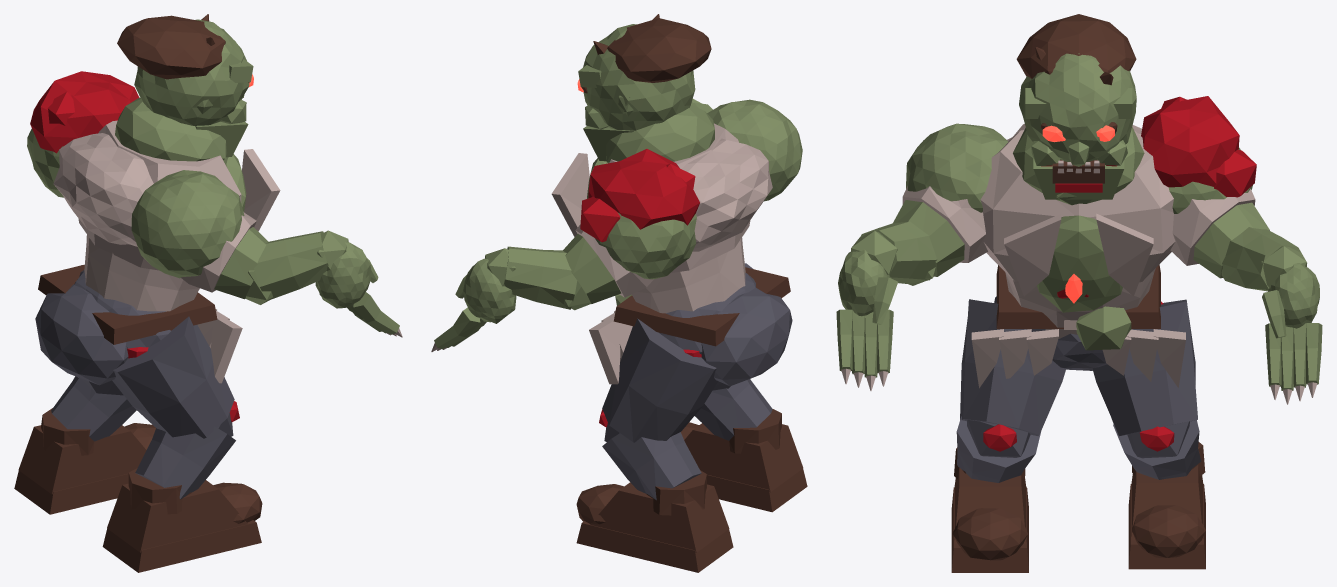
The model's file is inf.alpha.glb.
3 views of the same model, side by side, from view 1: azimuth 30°, elevation 25°; view 2: azimuth 150°, elevation 25°; view 3: azimuth 270°, elevation 25° (orthographic). The views are drawn at different scales.
Visible parts, largest first — view 1: torso, armR, head, footR, hip, footL, legR, armL, shinR, handR, foreArmR, shinL; view 2: torso, armL, head, footL, hip, legL, footR, armR, shinL, handL, foreArmL, shinR; view 3: torso, head, armL, armR, handR, footL, footR, handL, legR, legL, hip, shinR (+3 smaller).
Boxes of the visible parts, x1,y1,x2,y2 form: torso: (53,97,280,383); armR: (131,170,268,299); head: (117,14,253,157); footR: (102,468,262,572); hip: (35,264,217,385); footL: (14,408,155,514); legR: (112,316,234,438); armL: (27,71,139,197); shinR: (135,401,239,499); handR: (315,230,402,337); foreArmR: (245,231,328,304); shinL: (51,376,136,441); torso: (551,105,772,384); armL: (563,149,699,303); head: (577,14,711,161); footL: (576,470,733,572); hip: (613,267,792,386); legL: (602,318,717,442); footR: (681,409,807,512); armR: (707,99,802,201); shinL: (599,409,701,500); handL: (431,248,516,351); foreArmL: (504,246,590,310); shinR: (695,379,772,440); torso: (971,124,1185,388); head: (1016,14,1136,199); armL: (1141,96,1269,278); armR: (893,123,1008,276); handR: (836,231,897,390); footL: (1128,442,1205,569); footR: (951,447,1028,572); handL: (1261,246,1322,404); legR: (960,299,1066,435); legL: (1092,299,1197,436); hip: (994,264,1160,370); shinR: (956,416,1041,482).
Bounding box in the file's own units: 1.33 × 2.52 × 2.11.
